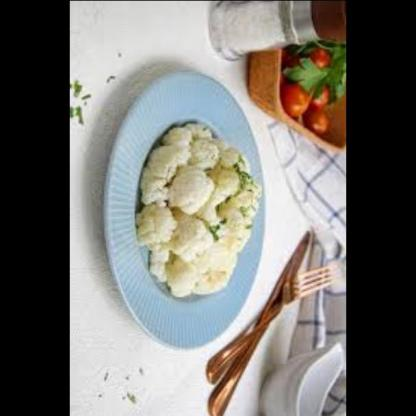cayliflower: (127, 116, 275, 303)
tomato: (280, 51, 339, 135)
